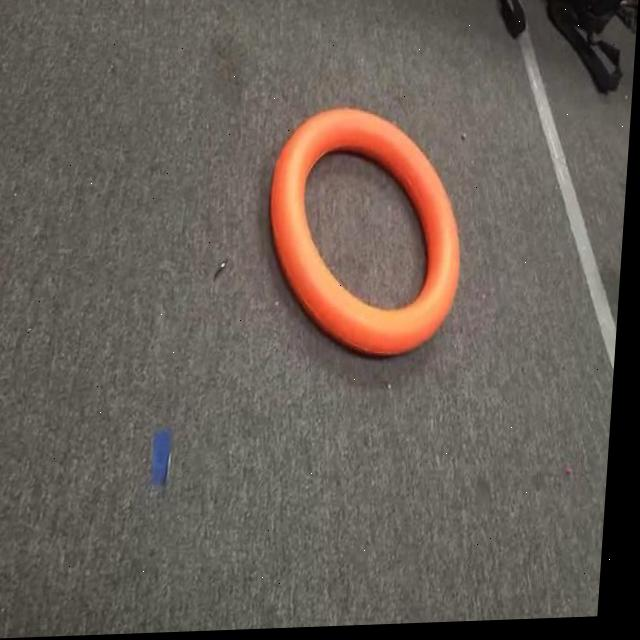note: (248, 98, 487, 376)
